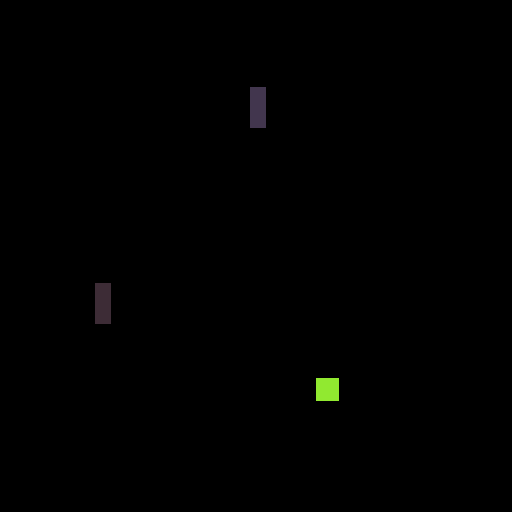square: (314, 374, 343, 402)
up_rect: (249, 84, 268, 131), (92, 275, 111, 322)
